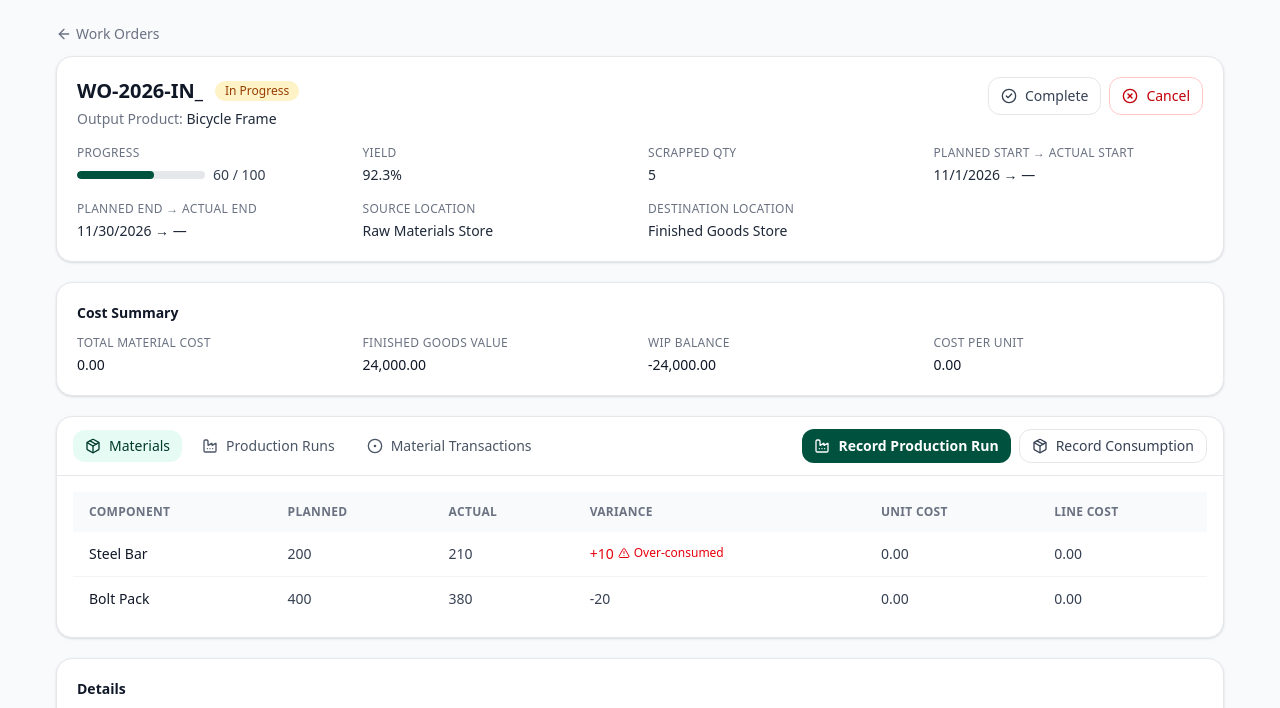
Test: work order detail page › warns before submitting output that exceeds the 10% tolerance
Click the button with test id "record-run-button": (906, 446) left=802, top=429, right=1011, bottom=463
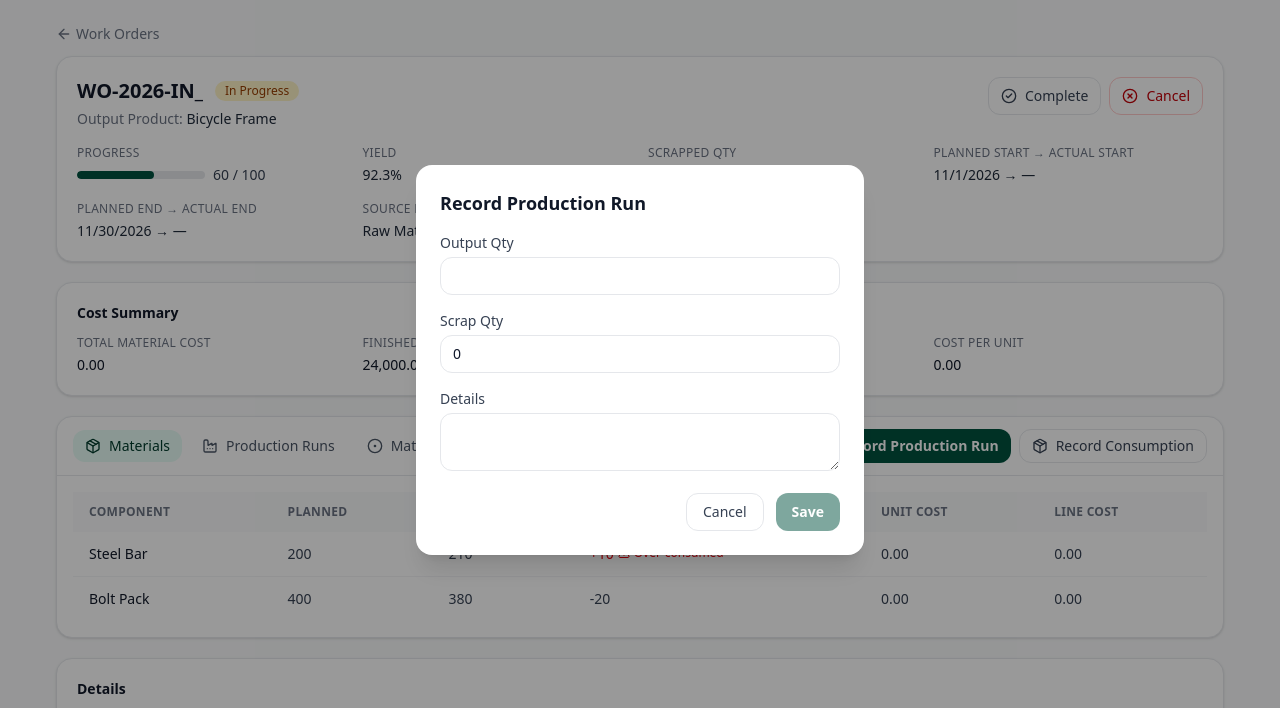
Result: the number field with test id "run-output-input" is shown
In the number field with test id "run-output-input": (640, 276) left=440, top=257, right=840, bottom=295, type "51"
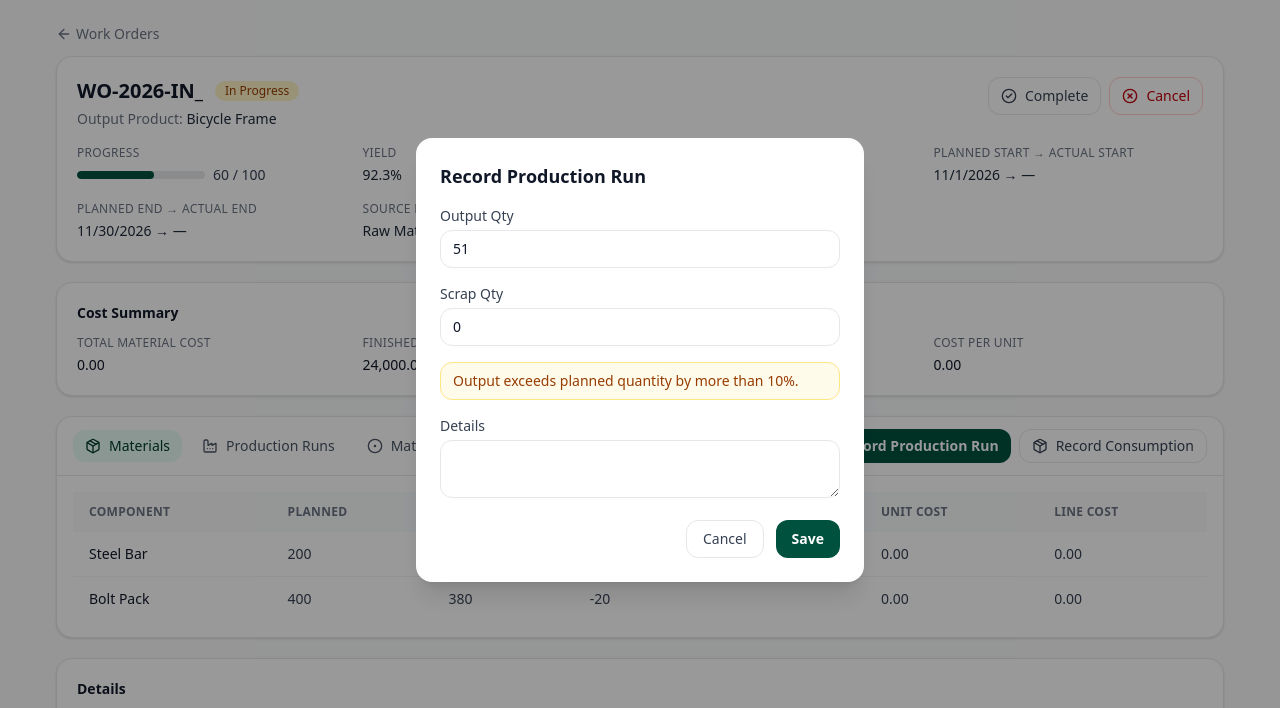
Result: the text "Output exceeds planned quantity by more than 10%." is shown at left=440, top=362, right=840, bottom=400
